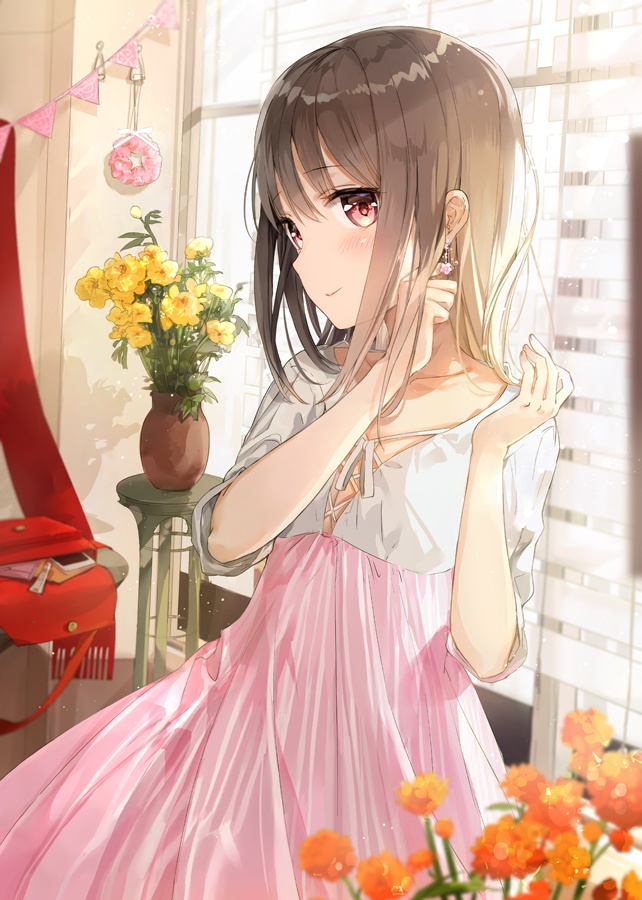纸片人正脸: (251, 23, 539, 343)
